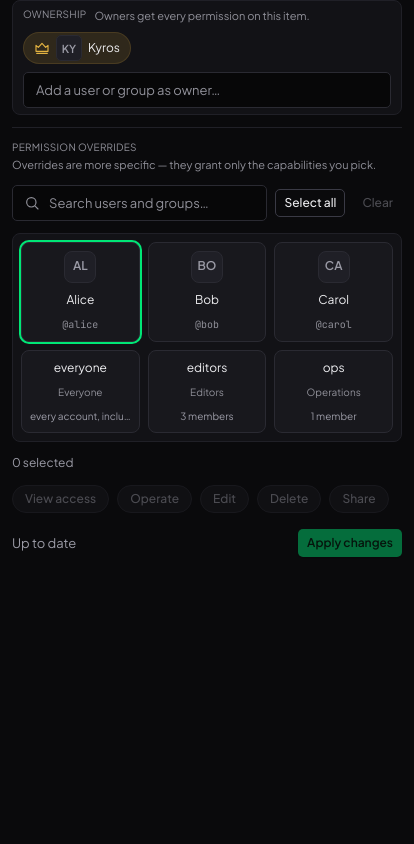
ResourceAccessFields › keeps Apply disabled until the draft is dirty
This screenshot has width=414, height=844.
Check: the button "Apply changes" is disabled, box [298,529,402,557]
Click the option "BO Bob @bob" at (207, 292), box [148,242,266,342]
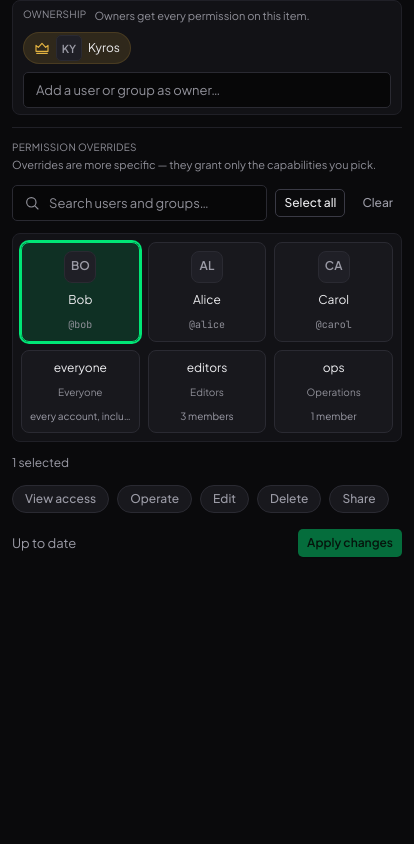
Click the button "Operate" at (155, 499), box [117,485,192,513]
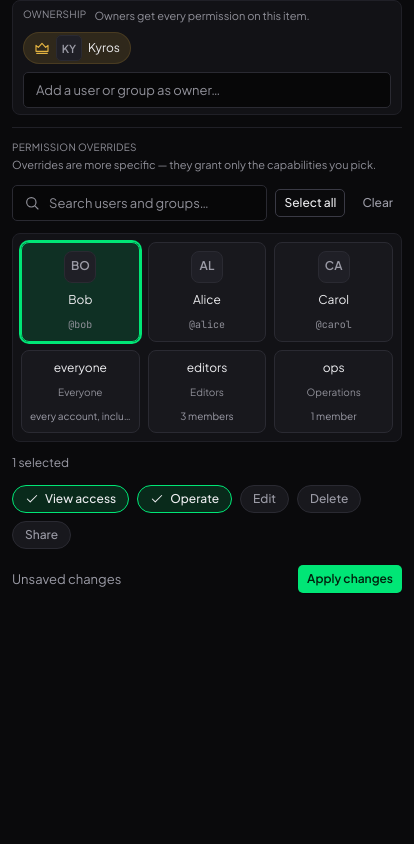
Check: the button "Apply changes" is enabled, box [298,565,402,593]
Check: the text "Unsaved changes" is shown, box [12,569,121,589]
